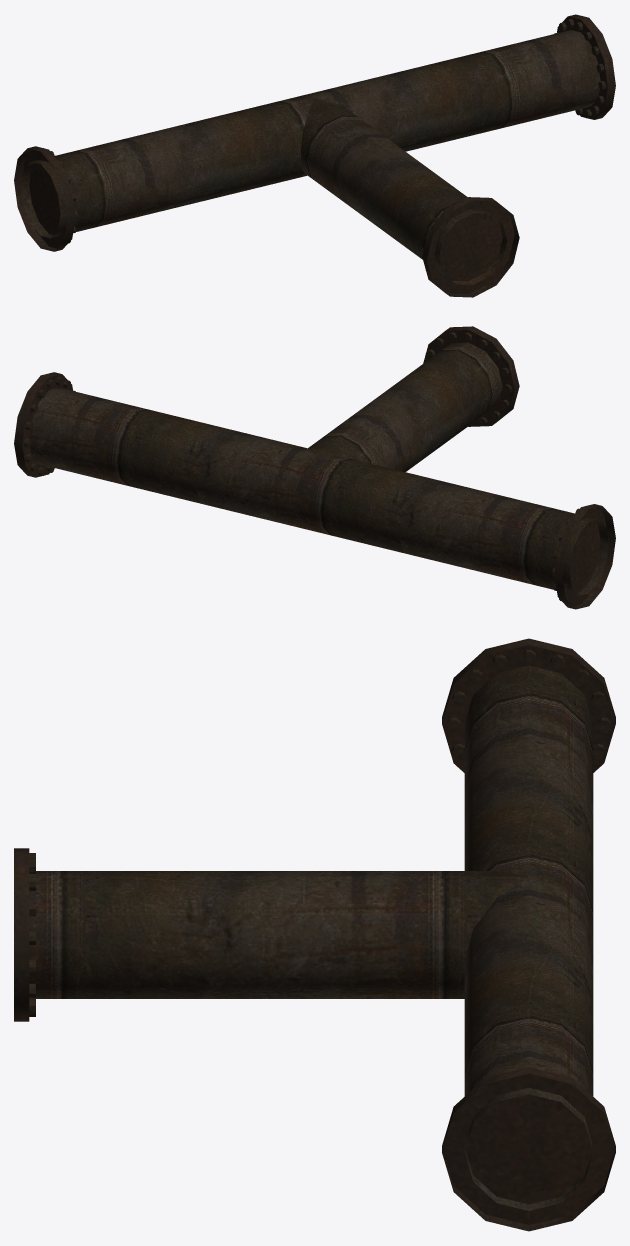
Rendered from pipe_bx_4.obj.
3 renders of one model, top to bottom at view 1: azimuth 30°, elevation 25°; view 2: azimuth 150°, elevation 25°; view 3: azimuth 270°, elevation 25°, orthographic. The views are drawn at different scales.
Visible parts, largest first — view 1: pipe_bx_4; view 2: pipe_bx_4; view 3: pipe_bx_4.
Boxes of the visible parts, bbox=[...] form: pipe_bx_4: bbox=[14, 14, 615, 297]; pipe_bx_4: bbox=[14, 326, 615, 609]; pipe_bx_4: bbox=[14, 638, 615, 1231].
Bounding box in the file's own units: 4 × 0.676 × 2.34.
